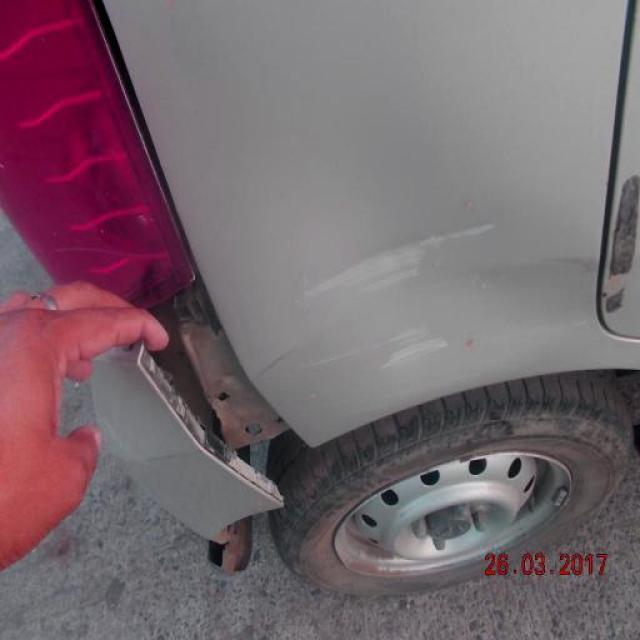Car-Damage: (141, 279, 315, 507), (300, 209, 500, 306), (298, 328, 452, 380)
